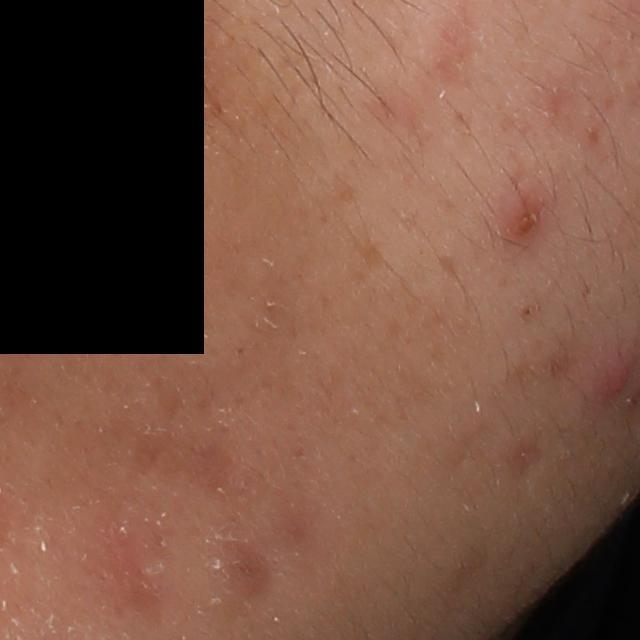papule: (501, 195, 545, 245)
